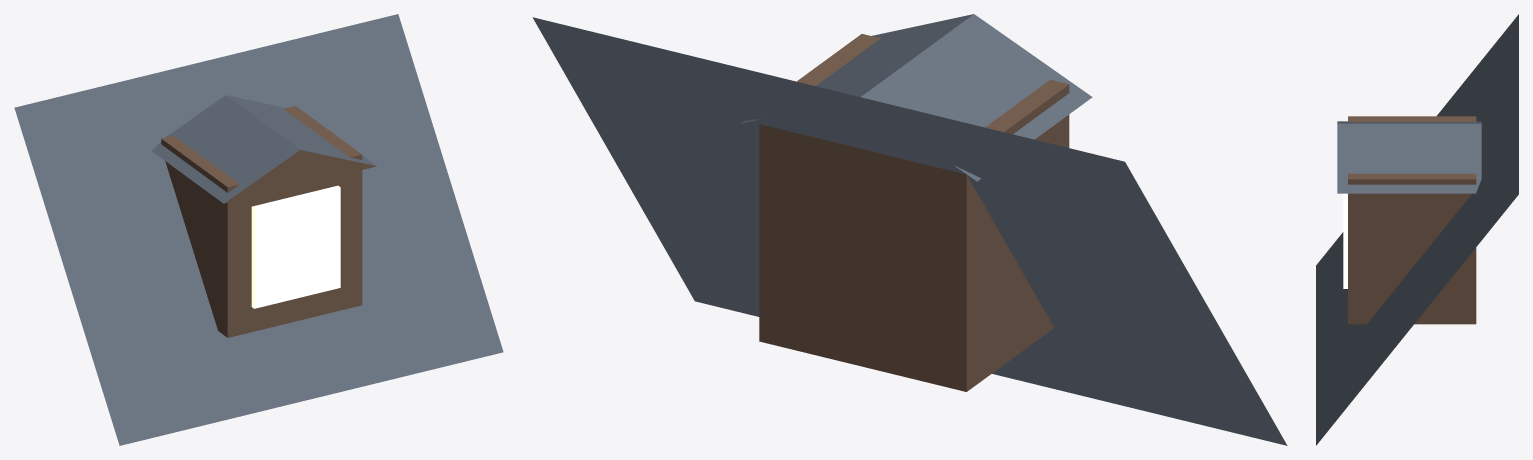
The model's file is arkham_roof_mansarddormer.glb.
3 views of the same model, side by side, from view 1: azimuth 30°, elevation 25°; view 2: azimuth 150°, elevation 25°; view 3: azimuth 270°, elevation 25° (orthographic). The views are drawn at different scales.
Parts seen in each view (by area): view 1: Arkham_Roof_MansardDormer; view 2: Arkham_Roof_MansardDormer; view 3: Arkham_Roof_MansardDormer.
Part boxes in pixels (box(x1,y1,x2,y2)): Arkham_Roof_MansardDormer: box(14, 14, 503, 445); Arkham_Roof_MansardDormer: box(532, 14, 1287, 445); Arkham_Roof_MansardDormer: box(1316, 14, 1518, 445).
Bounding box in the file's own units: 4 × 2.6 × 1.9.
